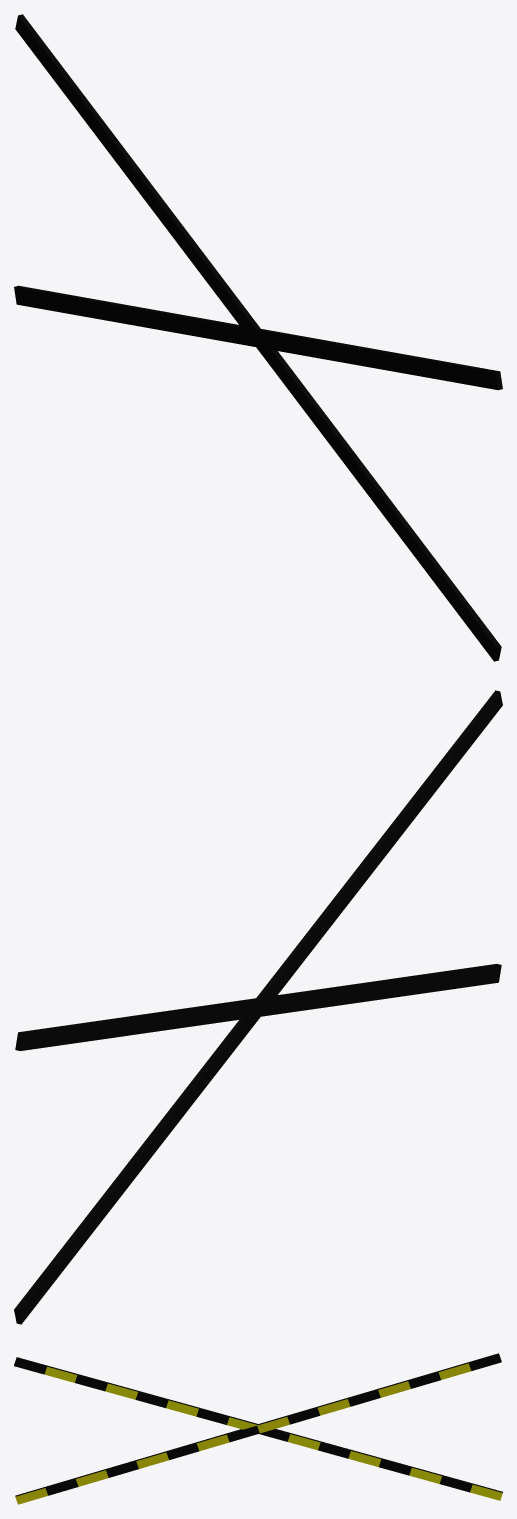
File: serit.fbx
3 renders of one model, top to bottom at view 1: azimuth 30°, elevation 25°; view 2: azimuth 150°, elevation 25°; view 3: azimuth 270°, elevation 25°, orthographic. The views are drawn at different scales.
Parts seen in each view (by area): view 1: Cube.004; view 2: Cube.004; view 3: Cube.004.
Boxes of the visible parts, bbox=[...] form: Cube.004: bbox=[14, 14, 502, 661]; Cube.004: bbox=[14, 690, 502, 1324]; Cube.004: bbox=[14, 1353, 502, 1504].
Size of the model in its own units: 2.23 by 131 by 387.
